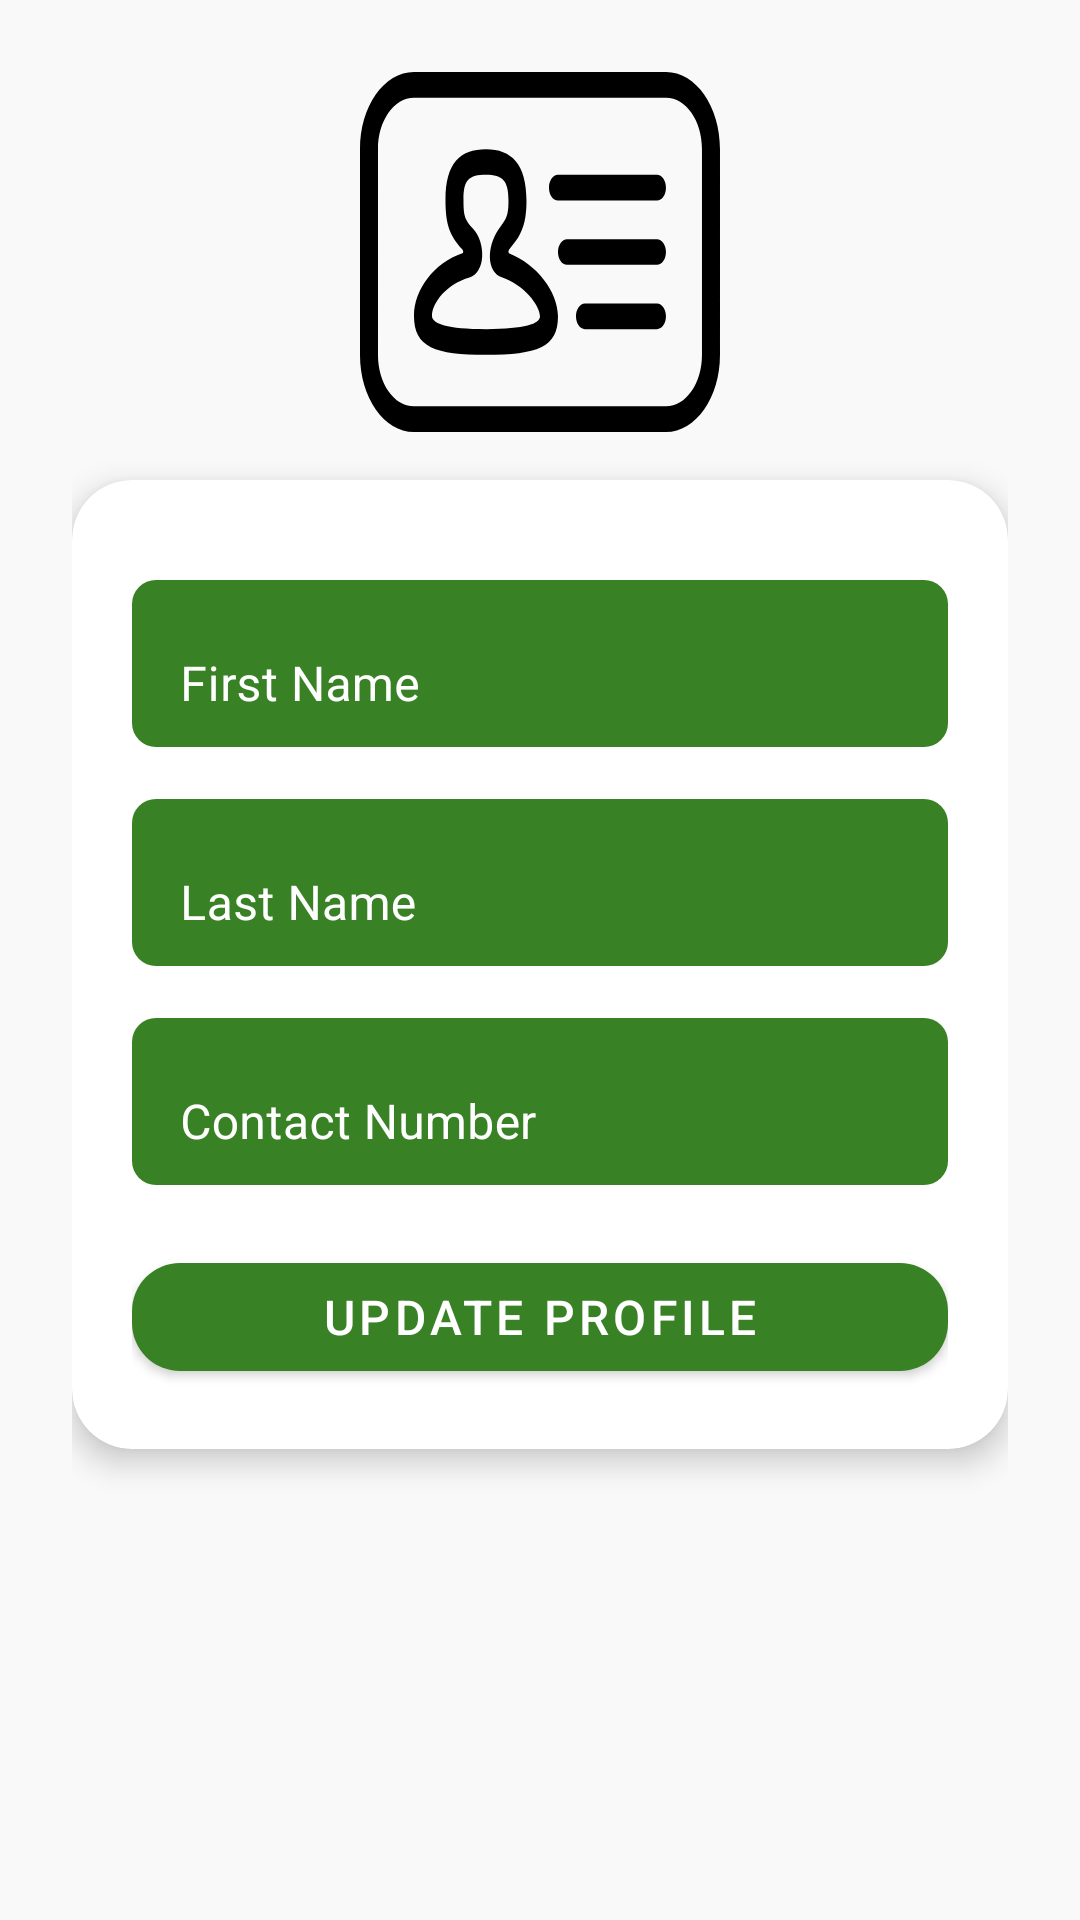

Icons on this 1080×1920 Android screen, each with its box as box(x1, y1, x2, y2):
Profile Picture: box(360, 72, 720, 432)
